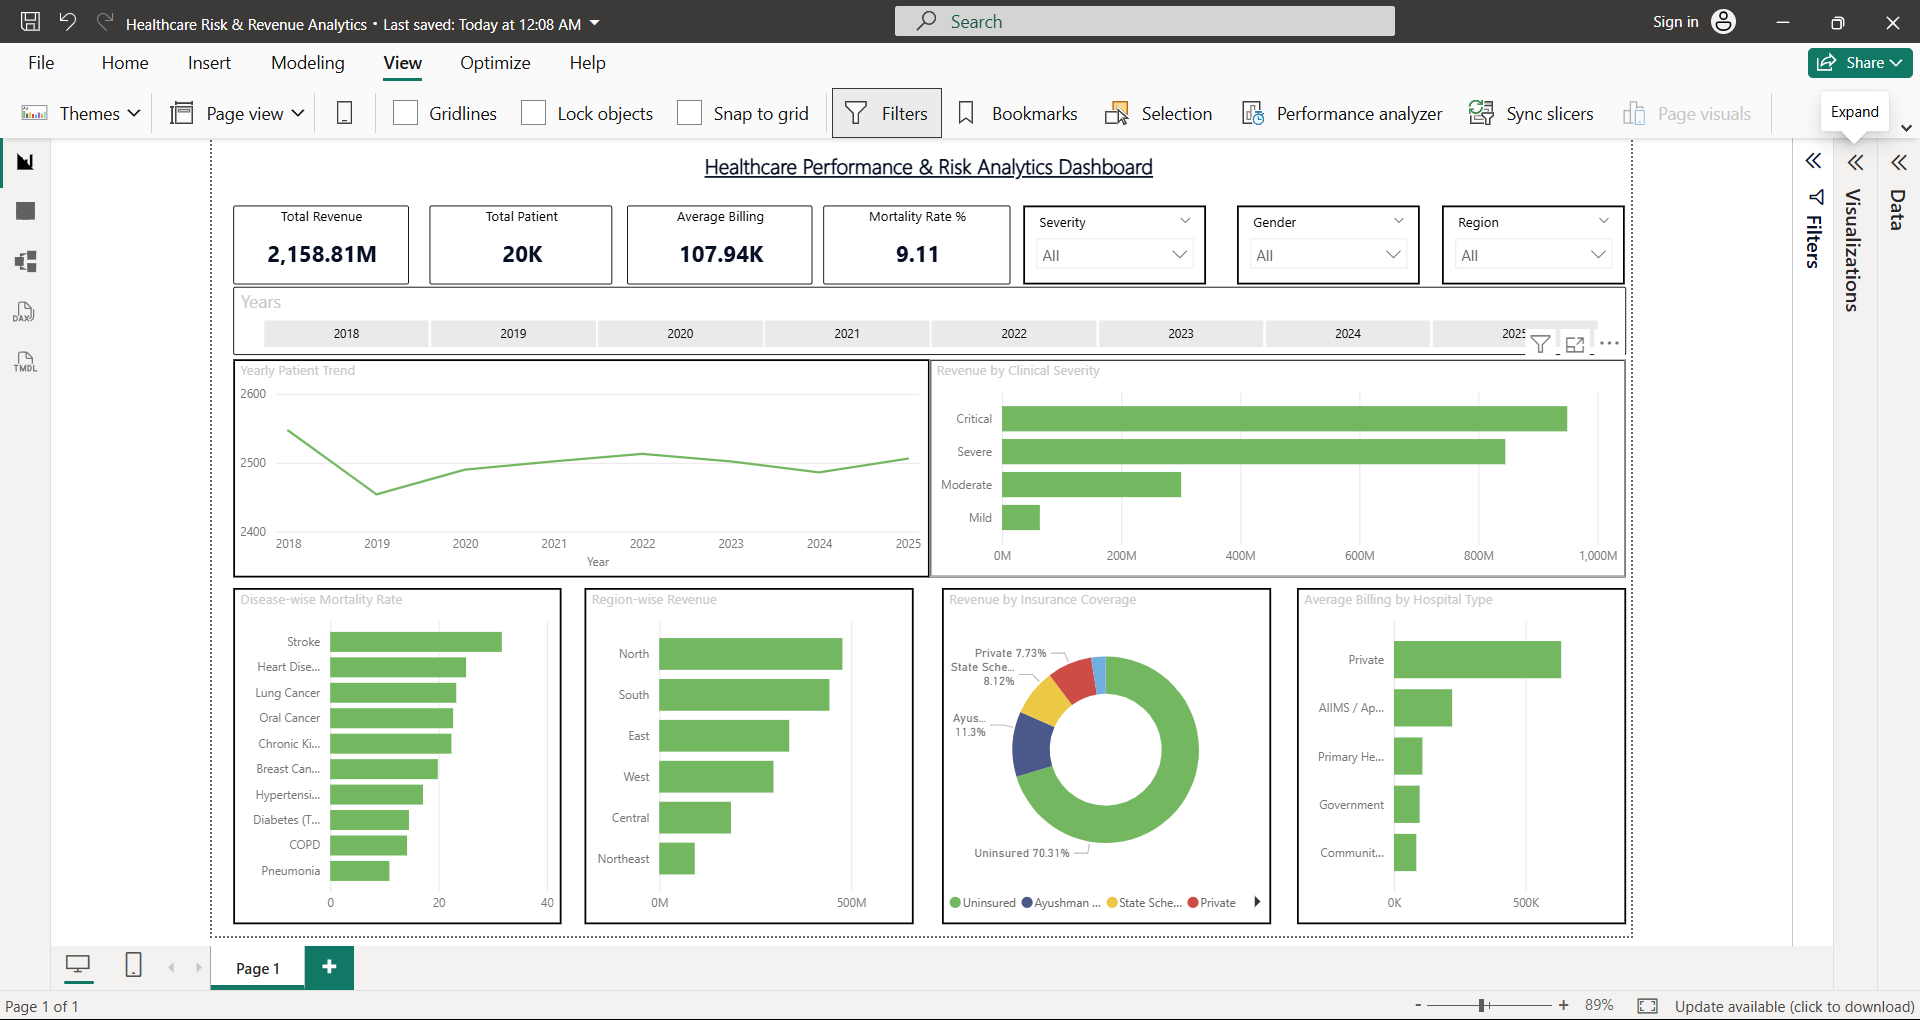

The dashboard page shown, as its layout file describes it:
{"tool":"powerbi","page":{"name":"Page 1","canvas":[1280,720],"ordinal":0},"visuals":[{"type":"card","title":"Total Patient","fields":{"Values":["Cleaned_Healthcare_dataset.Total Patient"]},"box":[196.5,60.5,165.1,70.9],"z":0},{"type":"card","title":"Average Billing","fields":{"Values":["Cleaned_Healthcare_dataset.Average Billing"]},"box":[374.4,60.5,167.4,70.9],"z":1000},{"type":"card","title":"Mortality Rate %","fields":{"Values":["Cleaned_Healthcare_dataset.Mortality Rate %"]},"box":[551.2,60.5,168.6,70.9],"z":2000},{"type":"card","title":"Total Revenue","fields":{"Values":["Cleaned_Healthcare_dataset.Total Revenue"]},"box":[18.6,60.5,158.1,70.9],"z":3000},{"type":"slicer","title":"Years","fields":{"Values":["Cleaned_Healthcare_dataset.diagnosis_date.Variation.Date Hierarchy.Year"]},"box":[18.6,133.7,1255.8,61.6],"z":4000},{"type":"slicer","fields":{"Values":["Cleaned_Healthcare_dataset.region"]},"box":[1109.3,60.5,165.1,70.9],"z":5000},{"type":"slicer","fields":{"Values":["Cleaned_Healthcare_dataset.gender"]},"box":[924.4,60.5,165.1,70.9],"z":6000},{"type":"slicer","fields":{"Values":["Cleaned_Healthcare_dataset.severity"]},"box":[731.4,60.5,165.1,70.9],"z":7000},{"type":"lineChart","title":"Yearly Patient Trend","fields":{"Y":["Cleaned_Healthcare_dataset.Total Patient"],"Category":["Cleaned_Healthcare_dataset.diagnosis_date.Variation.Date Hierarchy.Year"]},"box":[18.6,200,627.9,196.5],"z":8000},{"type":"clusteredBarChart","title":"Revenue by Clinical Severity","fields":{"Category":["Cleaned_Healthcare_dataset.severity"],"Y":["Cleaned_Healthcare_dataset.Total Revenue"]},"box":[646.5,200,627.9,196.5],"z":9000},{"type":"clusteredBarChart","title":"Disease-wise Mortality Rate","fields":{"Y":["Cleaned_Healthcare_dataset.Mortality Rate %"],"Category":["Cleaned_Healthcare_dataset.disease_name"]},"box":[19.2,406.2,296.4,303.3],"z":10000},{"type":"clusteredBarChart","title":"Region-wise Revenue","fields":{"Y":["Cleaned_Healthcare_dataset.Total Revenue"],"Category":["Cleaned_Healthcare_dataset.region"]},"box":[336,405.8,296.5,303.5],"z":11000},{"type":"clusteredBarChart","title":"Average Billing by Hospital Type","fields":{"Category":["Cleaned_Healthcare_dataset.hospital_type"],"Y":["Cleaned_Healthcare_dataset.Average Billing"]},"box":[977.9,405.8,296.5,303.5],"z":12000},{"type":"donutChart","title":"Revenue by Insurance Coverage","fields":{"Y":["Cleaned_Healthcare_dataset.Total Revenue"],"Category":["Cleaned_Healthcare_dataset.insurance_status"]},"box":[658.1,405.8,296.5,303.5],"z":12001},{"type":"textbox","box":[19.2,7.9,1254.5,45.1],"z":12002}]}

Visuals, with their boxes on the page's 1280x720 design canvas (x1, y1, x2, y2). These are canvas units, not pixel positions in the 1920x1020 screenshot, which may show the page scaled, cropped or inside an application window:
"Total Patient" card: crop(196, 60, 362, 131)
"Average Billing" card: crop(374, 60, 542, 131)
"Mortality Rate %" card: crop(551, 60, 720, 131)
"Total Revenue" card: crop(19, 60, 177, 131)
"Years" slicer: crop(19, 134, 1274, 195)
slicer - Cleaned_Healthcare_dataset.region: crop(1109, 60, 1274, 131)
slicer - Cleaned_Healthcare_dataset.gender: crop(924, 60, 1090, 131)
slicer - Cleaned_Healthcare_dataset.severity: crop(731, 60, 896, 131)
"Yearly Patient Trend" lineChart: crop(19, 200, 646, 396)
"Revenue by Clinical Severity" clusteredBarChart: crop(646, 200, 1274, 396)
"Disease-wise Mortality Rate" clusteredBarChart: crop(19, 406, 316, 710)
"Region-wise Revenue" clusteredBarChart: crop(336, 406, 632, 709)
"Average Billing by Hospital Type" clusteredBarChart: crop(978, 406, 1274, 709)
"Revenue by Insurance Coverage" donutChart: crop(658, 406, 955, 709)
textbox: crop(19, 8, 1274, 53)
